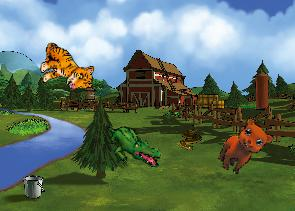bear: (213, 113, 277, 183)
crocodile: (100, 123, 165, 168)
tiger: (38, 42, 95, 91)
